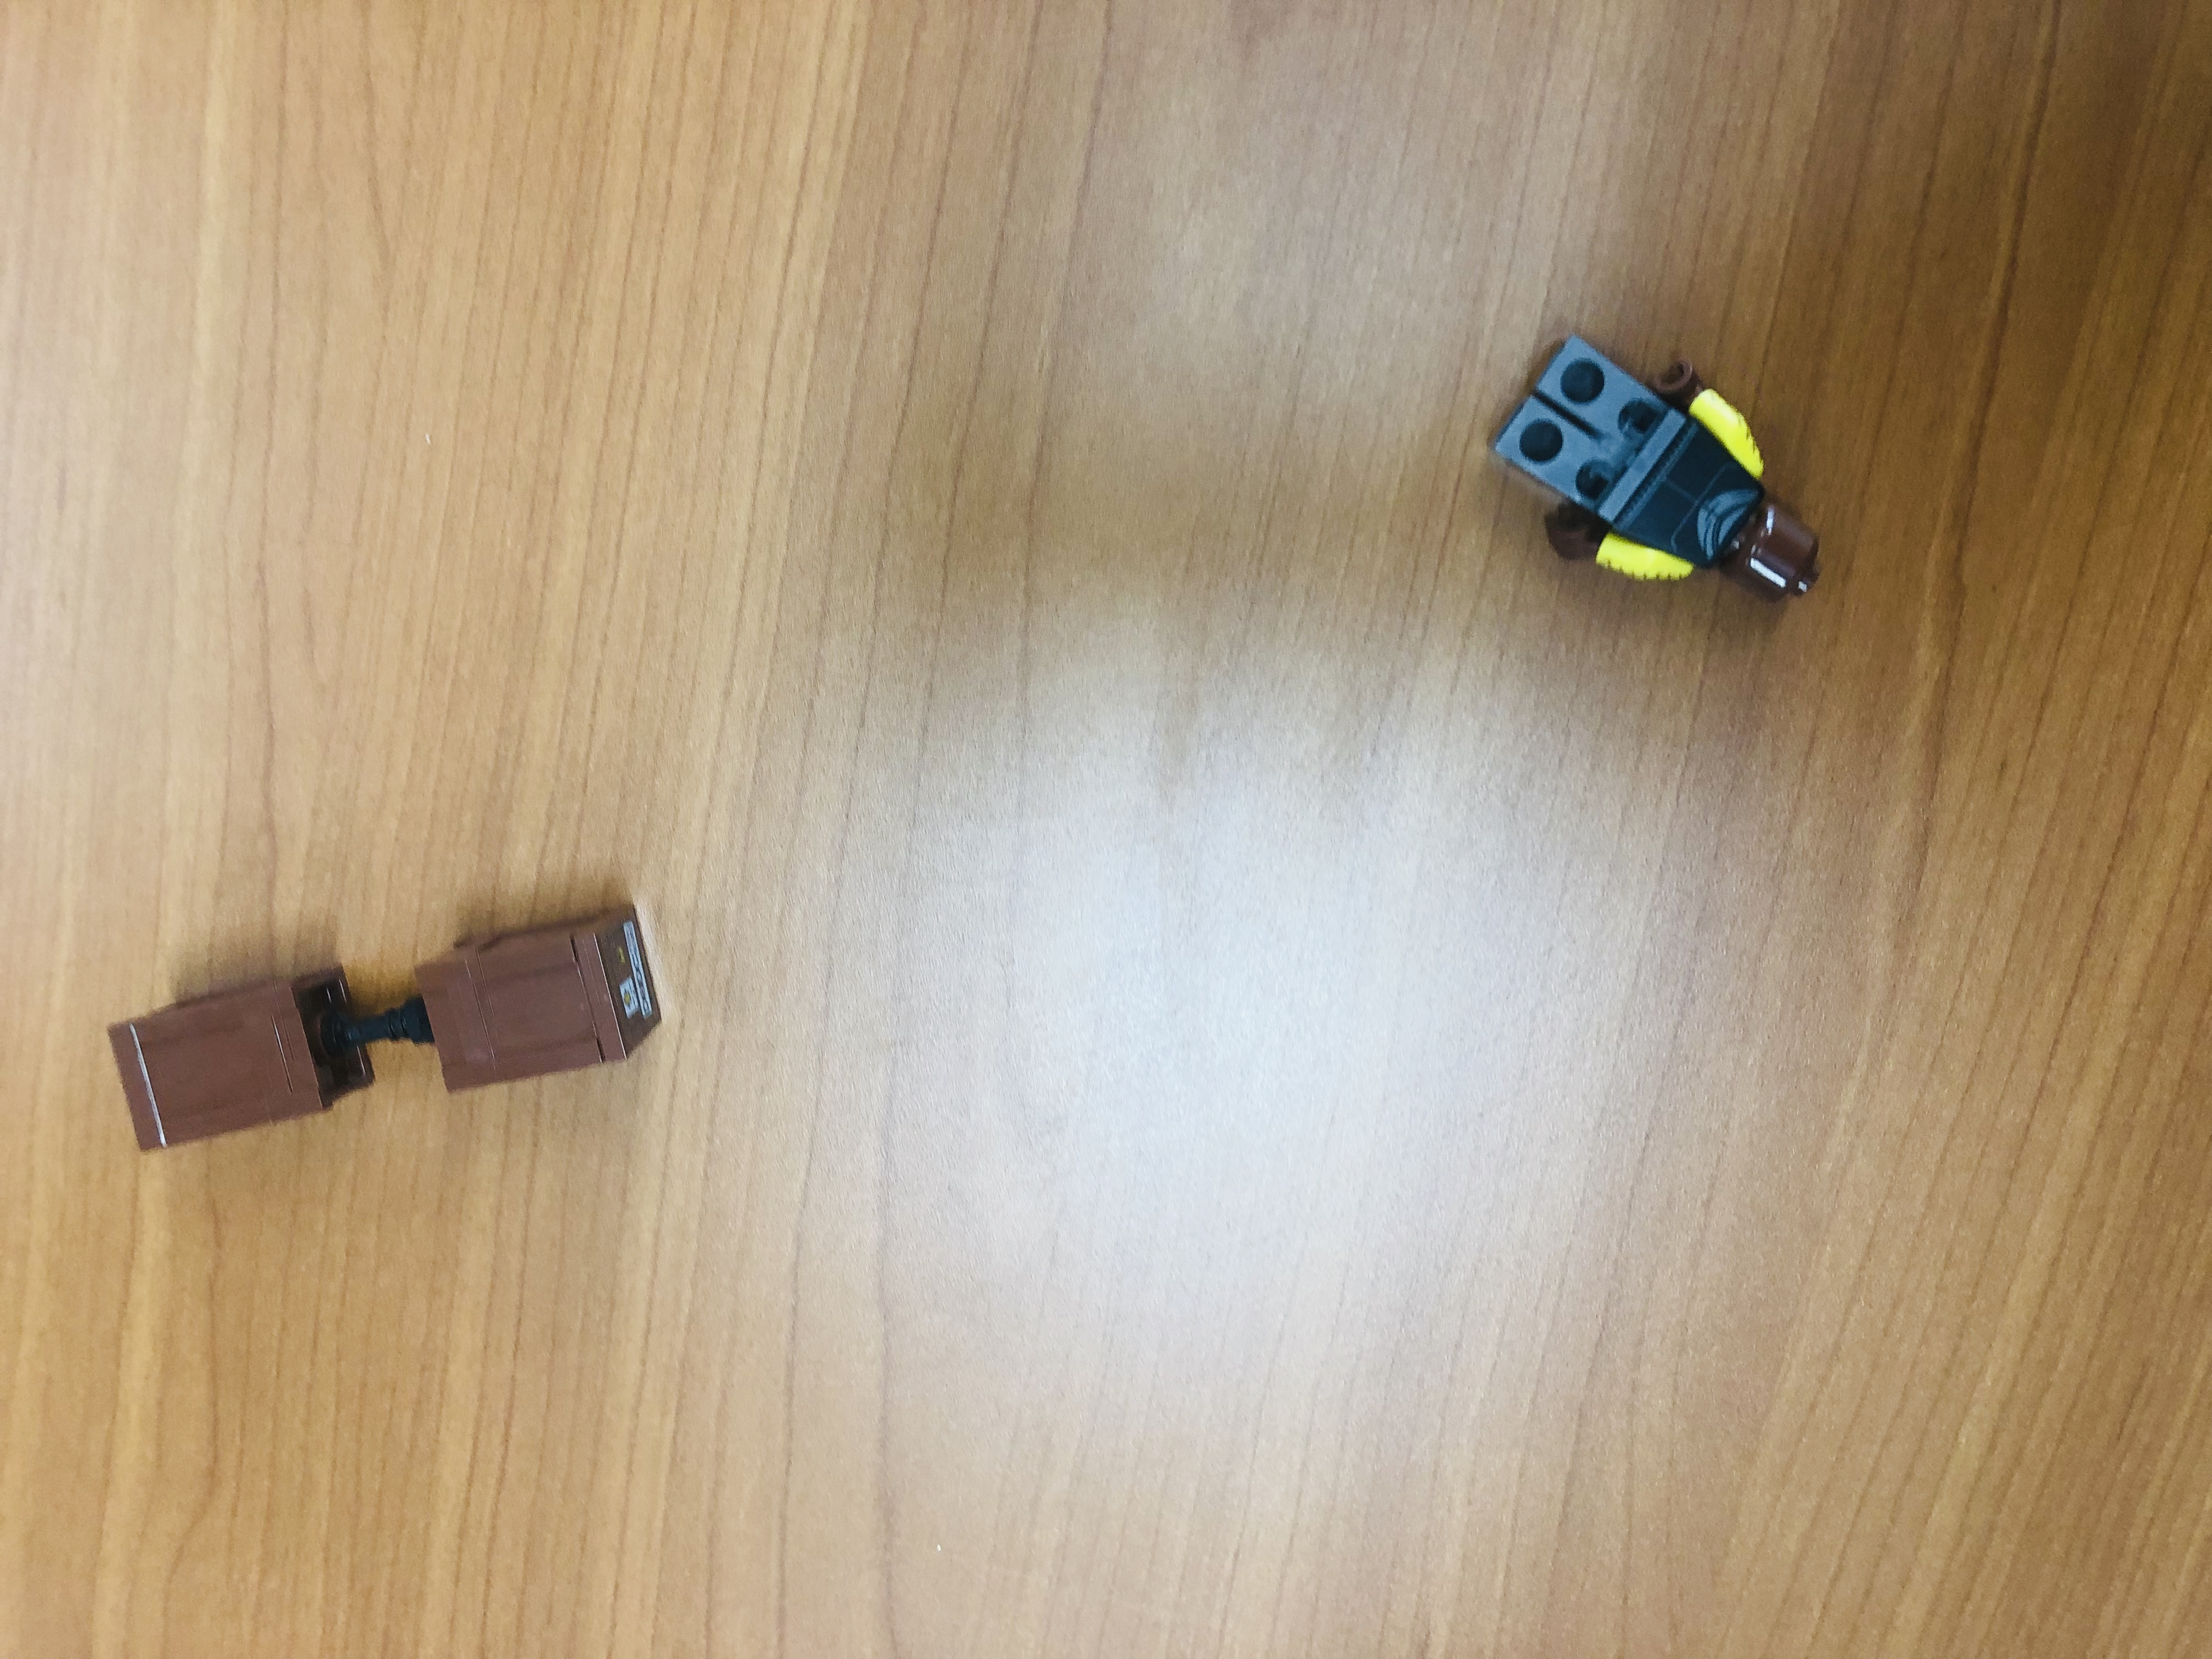box: (411, 898, 668, 1098), (109, 967, 378, 1154)
people: (1482, 323, 1830, 611)
